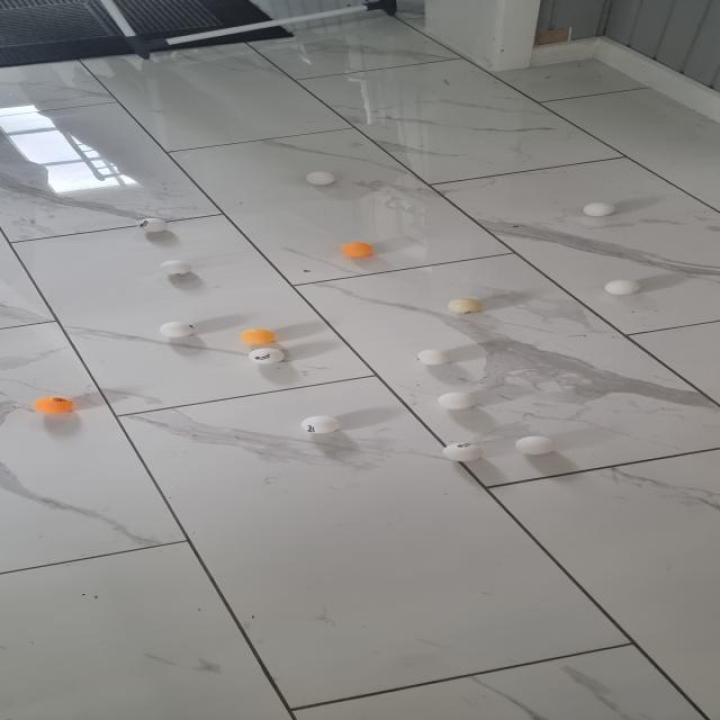orange: (34, 397, 74, 414), (240, 328, 275, 344), (343, 242, 374, 258)
white: (438, 392, 478, 410), (514, 437, 556, 454), (444, 443, 483, 461), (302, 416, 340, 434), (160, 321, 196, 338), (417, 349, 453, 365), (249, 348, 285, 364), (604, 280, 640, 296), (448, 298, 482, 314), (160, 260, 192, 276), (305, 171, 335, 186), (583, 203, 614, 217), (138, 219, 168, 232)
